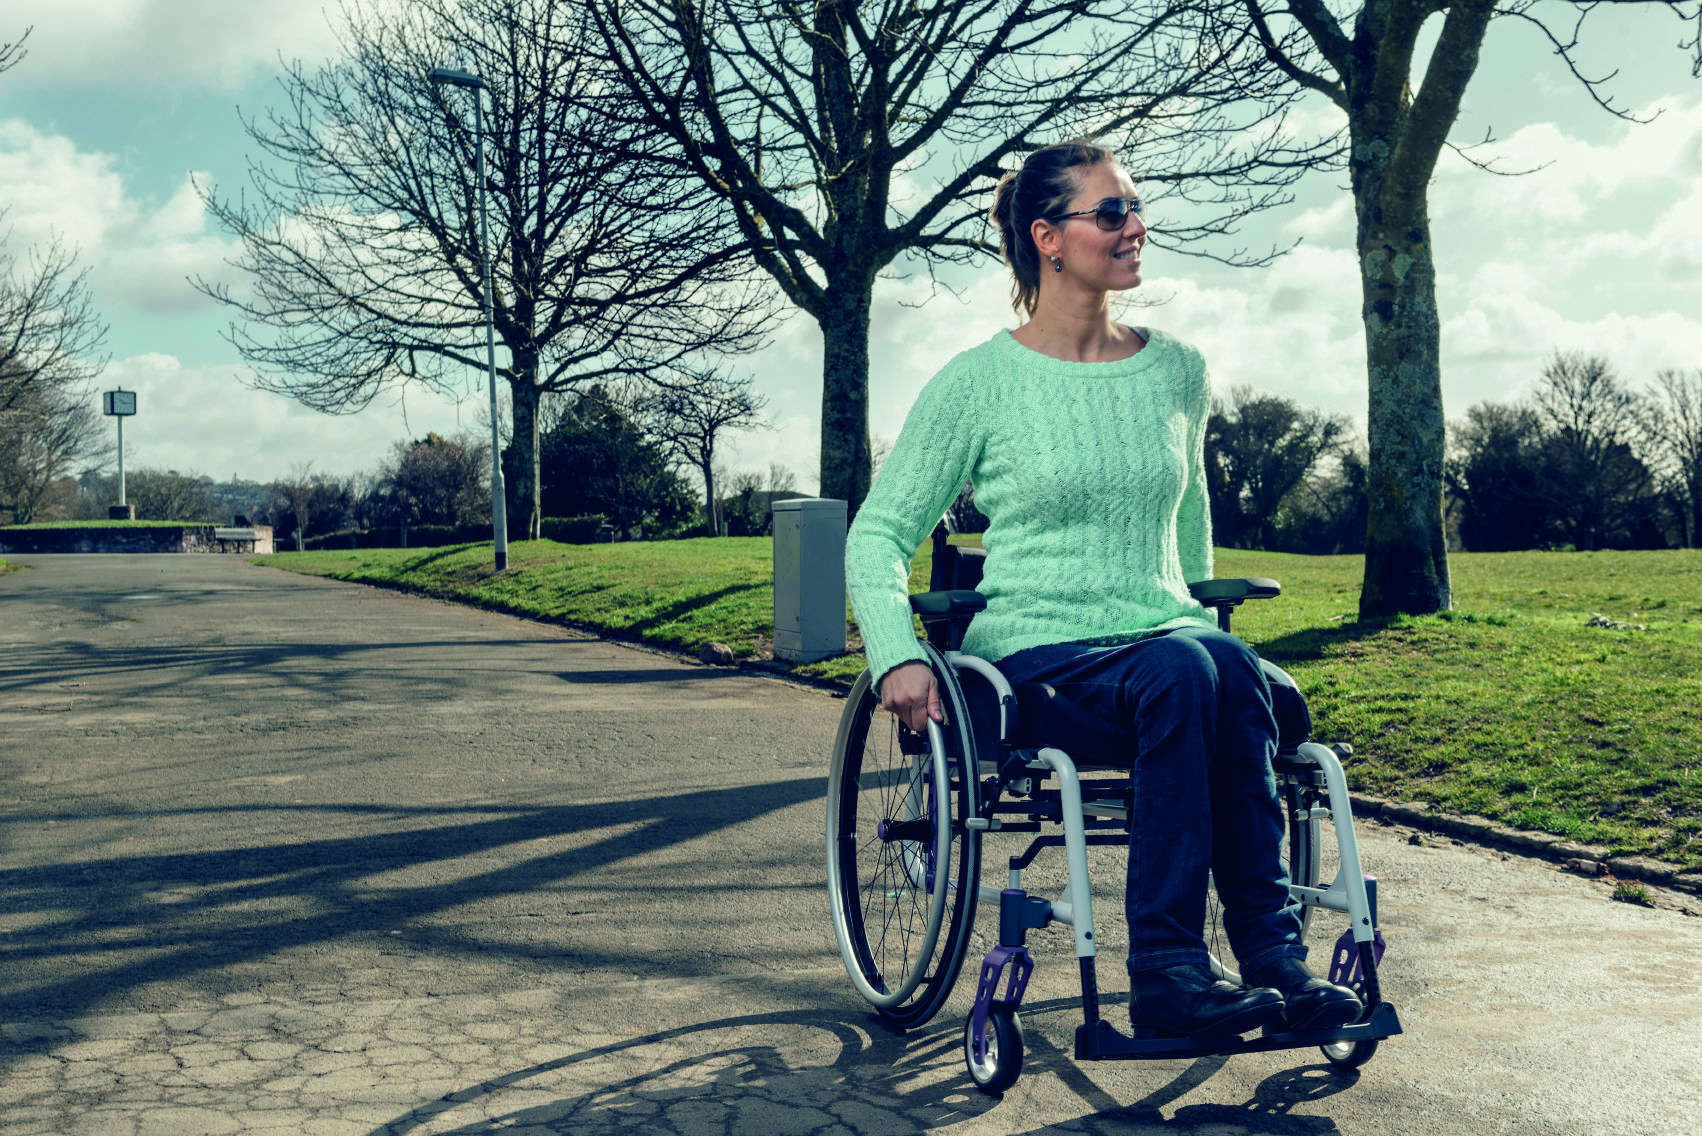person: (852, 124, 1249, 692)
wheelchair: (828, 666, 1349, 1057)
